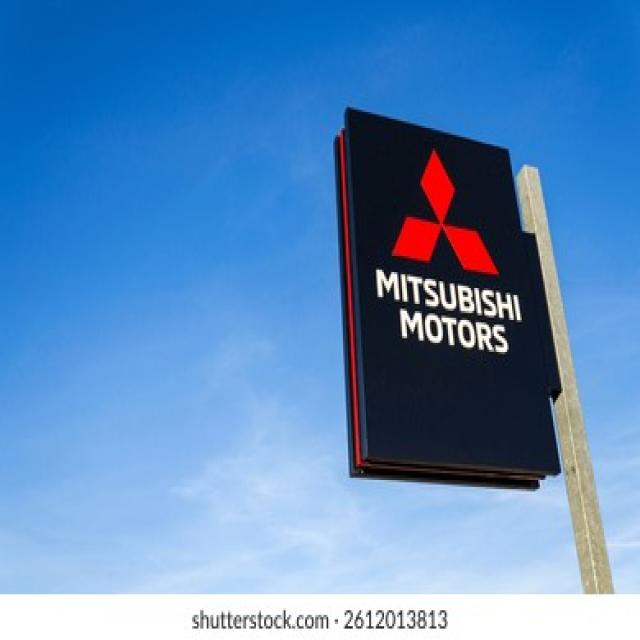mitsubishi: (379, 138, 512, 285)
